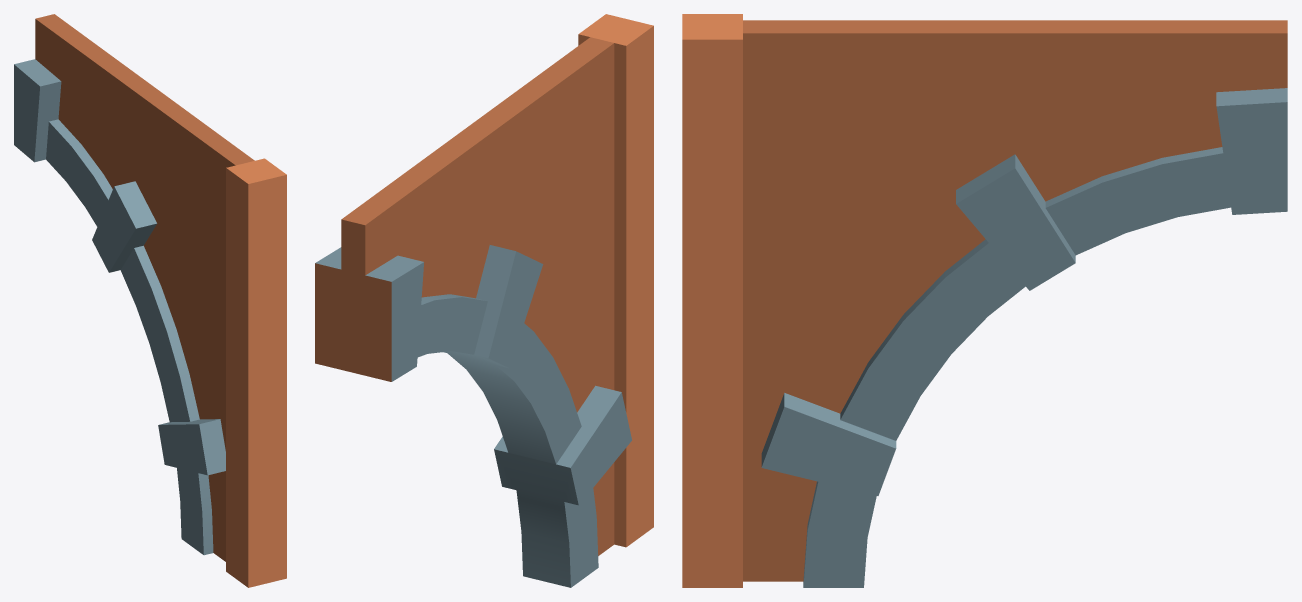
The model's file is wallWoodArchTopDetail.fbx.
3 renders of one model, left to right at view 1: azimuth 30°, elevation 25°; view 2: azimuth 150°, elevation 25°; view 3: azimuth 270°, elevation 25°, orthographic. The views are drawn at different scales.
Parts seen in each view (by area): view 1: wallWoodArchTopDetail; view 2: wallWoodArchTopDetail; view 3: wallWoodArchTopDetail.
Boxes of the visible parts, left/top/right/bottom form: wallWoodArchTopDetail: left=14, top=14, right=286, bottom=587; wallWoodArchTopDetail: left=315, top=14, right=653, bottom=587; wallWoodArchTopDetail: left=682, top=14, right=1287, bottom=587.
Bounding box in the file's own units: 1.6 × 10 × 10.
